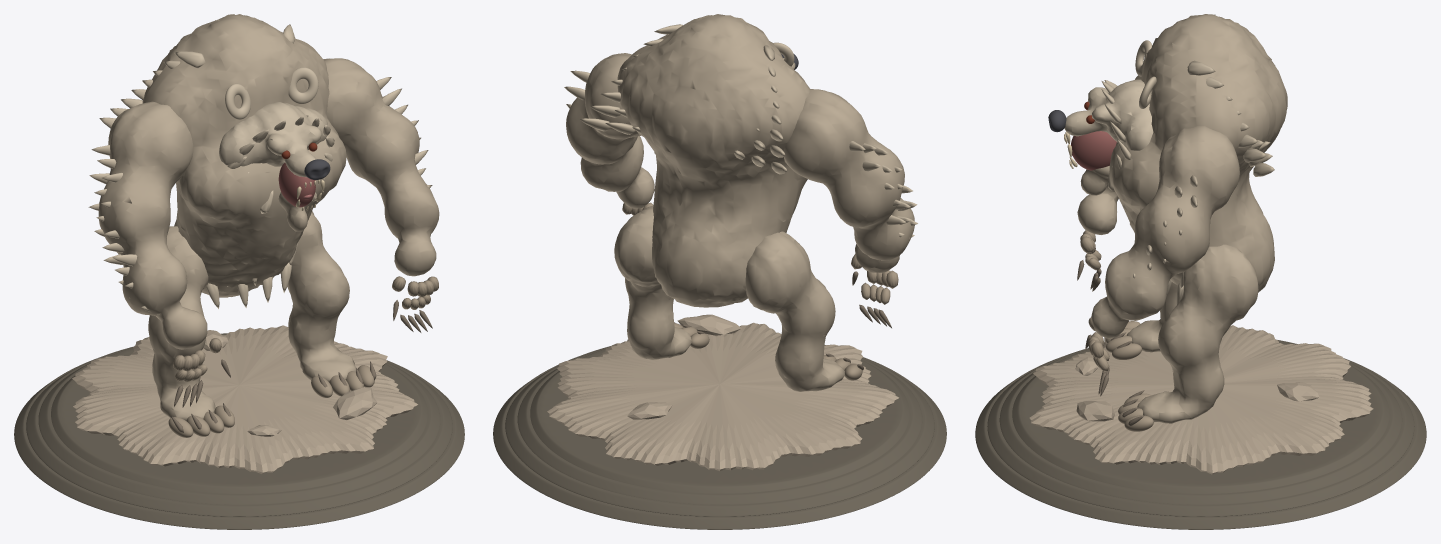
3 views of the same model, side by side, from view 1: azimuth 30°, elevation 25°; view 2: azimuth 150°, elevation 25°; view 3: azimuth 270°, elevation 25° (orthographic).
Visible parts, largest first — view 1: Bear_Torso_And_Hump, Base_Rock_Slab, Bear_Arm_Right, Base_Plinth_TopRim, Bear_Arm_Left, Base_Plinth_Bottom, Base_Plinth_Mid1, Bear_Leg_Left, Base_Plinth_Mid2, Bear_Sculpted_Fur_Tufts, Bear_Head_Cranium, Bear_Leg_Right (+5 smaller); view 2: Bear_Torso_And_Hump, Base_Rock_Slab, Base_Plinth_TopRim, Bear_Arm_Right, Bear_Leg_Right, Base_Plinth_Bottom, Base_Plinth_Mid1, Bear_Arm_Left, Base_Plinth_Mid2, Bear_Leg_Left, Bear_Sculpted_Fur_Tufts, Base_Rock_Chunk_Right (+1 smaller); view 3: Base_Rock_Slab, Bear_Torso_And_Hump, Bear_Arm_Left, Base_Plinth_TopRim, Bear_Leg_Left, Base_Plinth_Bottom, Base_Plinth_Mid1, Base_Plinth_Mid2, Bear_Head_Cranium, Bear_Sculpted_Fur_Tufts, Bear_Arm_Right, Bear_Mouth_Cavity (+4 smaller).
Boxes of the visible parts, <box> form: Bear_Torso_And_Hump: <box>142,14,346,297</box>; Base_Rock_Slab: <box>72,325,417,473</box>; Bear_Arm_Right: <box>98,101,207,349</box>; Base_Plinth_TopRim: <box>51,333,427,493</box>; Bear_Arm_Left: <box>323,58,439,276</box>; Base_Plinth_Bottom: <box>14,358,464,529</box>; Base_Plinth_Mid1: <box>26,347,452,516</box>; Bear_Leg_Left: <box>280,211,355,382</box>; Base_Plinth_Mid2: <box>38,347,440,504</box>; Bear_Sculpted_Fur_Tufts: <box>88,24,432,314</box>; Bear_Head_Cranium: <box>219,102,327,177</box>; Bear_Leg_Right: <box>148,226,215,420</box>; Bear_Torso_And_Hump: <box>617,14,809,307</box>; Base_Rock_Slab: <box>547,322,898,470</box>; Base_Plinth_TopRim: <box>530,348,909,493</box>; Bear_Arm_Right: <box>783,89,914,272</box>; Bear_Leg_Right: <box>745,231,844,391</box>; Base_Plinth_Bottom: <box>493,357,946,529</box>; Base_Plinth_Mid1: <box>505,345,934,516</box>; Bear_Arm_Left: <box>566,53,654,208</box>; Base_Plinth_Mid2: <box>517,345,922,504</box>; Bear_Leg_Left: <box>614,206,691,359</box>; Bear_Sculpted_Fur_Tufts: <box>564,24,917,238</box>; Base_Rock_Chunk_Right: <box>677,314,741,335</box>; Base_Rock_Slab: <box>1029,325,1373,474</box>; Bear_Torso_And_Hump: <box>1109,14,1287,292</box>; Bear_Arm_Left: <box>1091,126,1239,338</box>; Base_Plinth_TopRim: <box>1012,340,1389,493</box>; Bear_Leg_Left: <box>1137,244,1258,423</box>; Base_Plinth_Bottom: <box>975,358,1426,529</box>; Base_Plinth_Mid1: <box>987,348,1414,516</box>; Base_Plinth_Mid2: <box>999,340,1402,504</box>; Bear_Head_Cranium: <box>1064,79,1153,150</box>; Bear_Sculpted_Fur_Tufts: <box>1101,14,1274,304</box>; Bear_Arm_Right: <box>1077,75,1141,234</box>; Bear_Mouth_Cavity: <box>1071,131,1116,170</box>.
Size of the model in its own units: 0.8605 by 0.8741 by 0.8605.
